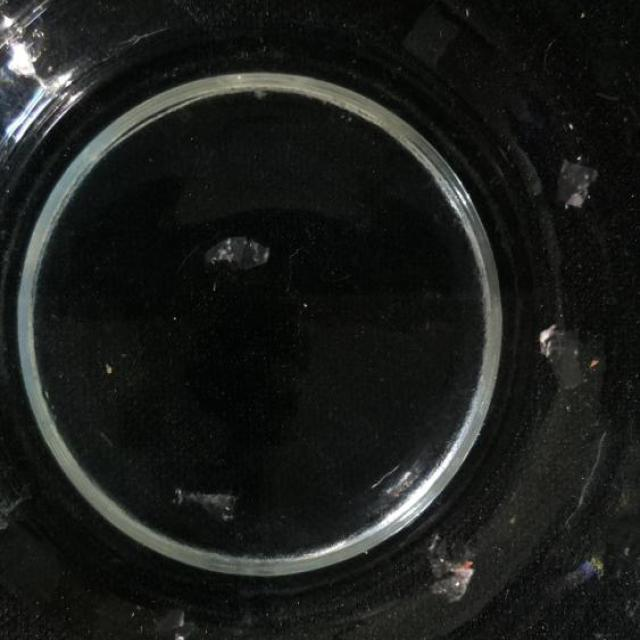fiber: (164, 479, 248, 528), (200, 226, 277, 276), (563, 536, 616, 600), (557, 154, 606, 217), (442, 536, 483, 606), (0, 493, 23, 538)
